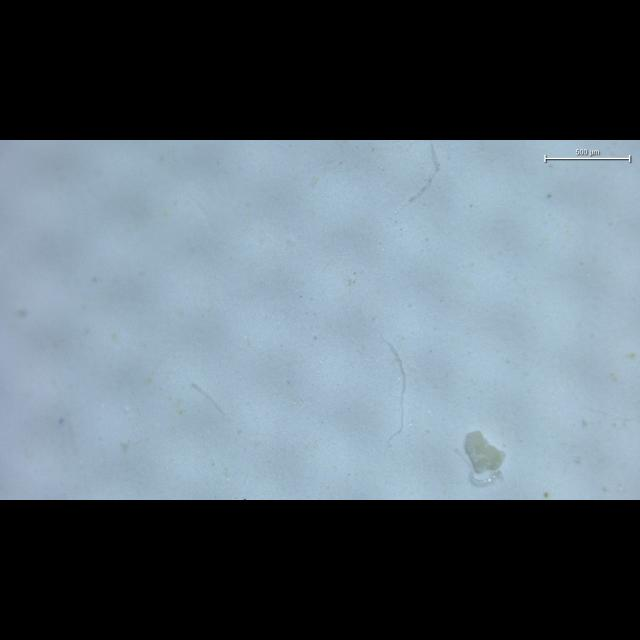Fibre: (396, 144, 440, 213), (380, 333, 406, 446), (192, 383, 225, 415), (467, 462, 503, 487), (455, 449, 469, 464)
Fragment: (465, 431, 505, 473)
